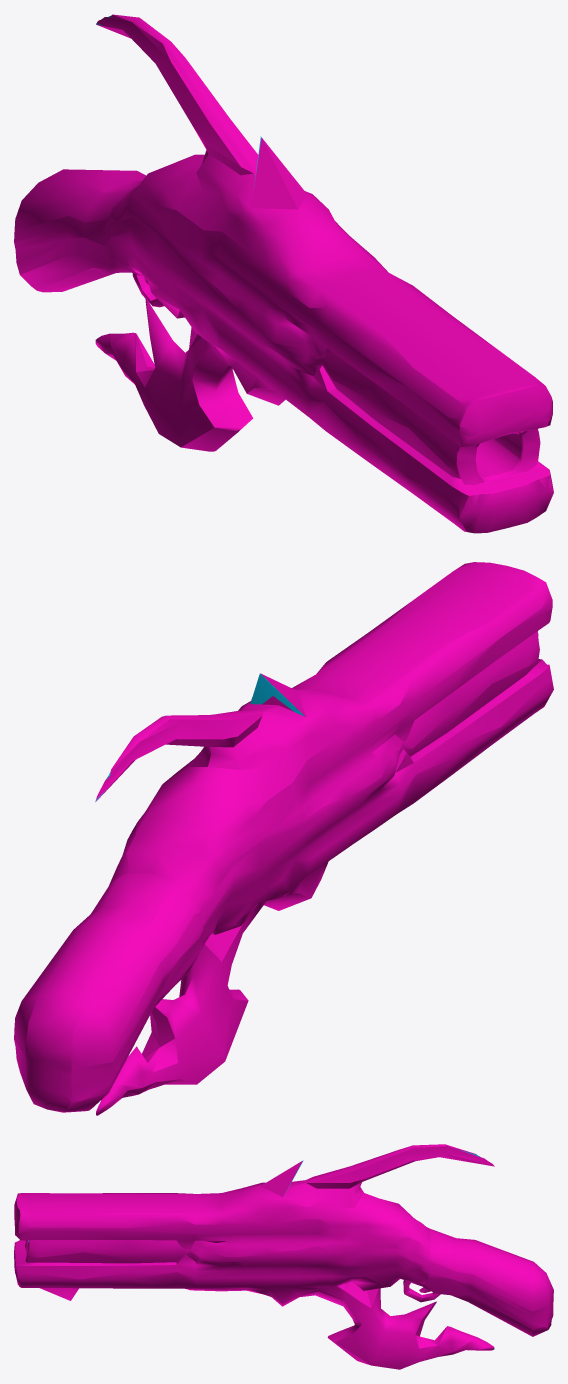
File: escopeta cel.fbx
The picture shows the model from 3 angles, top to bottom: view 1: azimuth 30°, elevation 25°; view 2: azimuth 150°, elevation 25°; view 3: azimuth 270°, elevation 25°; orthographic projection. The views are drawn at different scales.
Parts seen in each view (by area): view 1: Low; view 2: Low; view 3: Low.
Boxes of the visible parts, x1=… form: Low: x1=14, y1=14, x2=553, y2=533; Low: x1=14, y1=562, x2=553, y2=1115; Low: x1=14, y1=1144, x2=553, y2=1369.
Bounding box in the file's own units: 16.95 × 55.69 × 123.
